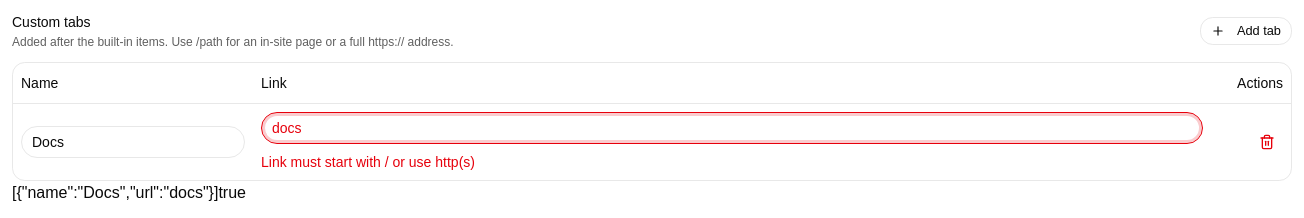
Scenario: header nav custom links editor › clears the invalid state once the link becomes an in-site path
expect the text with test id "invalid" reads "true": met, box [218,184,246,200]
Replace the text in the field named "Custom tab link" with "/docs": point(732, 128) [261,112,1203,144]
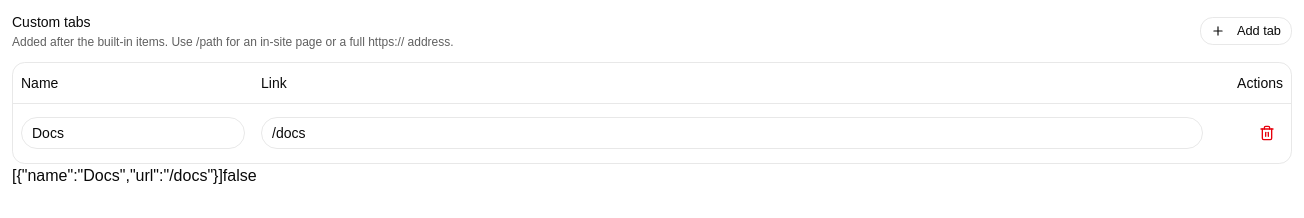
expect the text with test id "invalid" reads "false": met, box [223,167,257,184]
